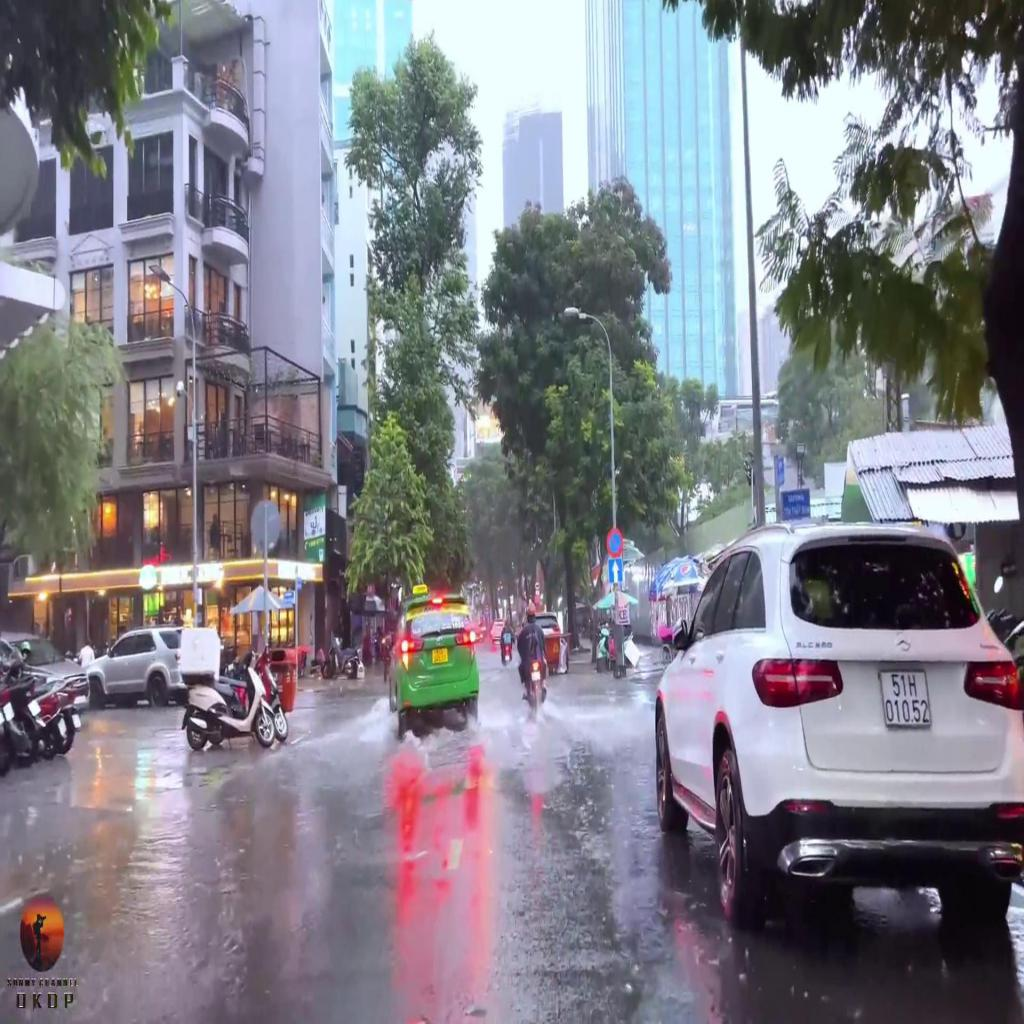cam_do_xe: (606, 526, 623, 558)
duong_mot_chieu: (608, 558, 623, 584)
